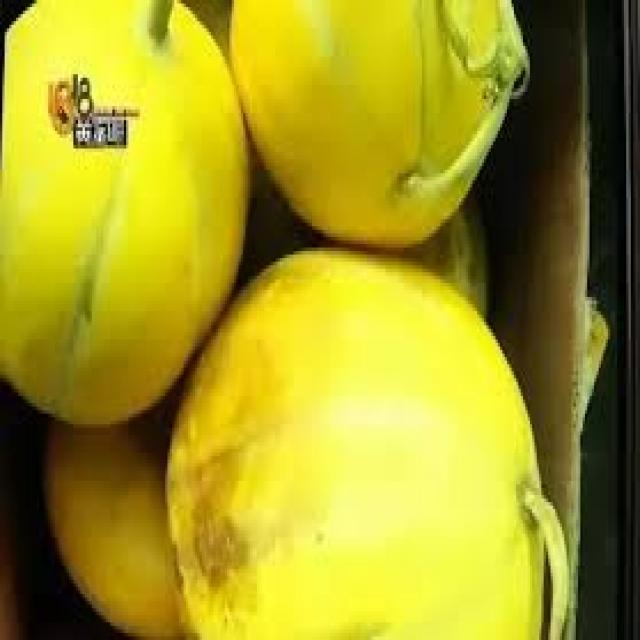organic waste: (160, 240, 569, 636), (0, 0, 243, 421), (222, 0, 530, 244), (246, 159, 488, 336), (39, 357, 188, 637)
